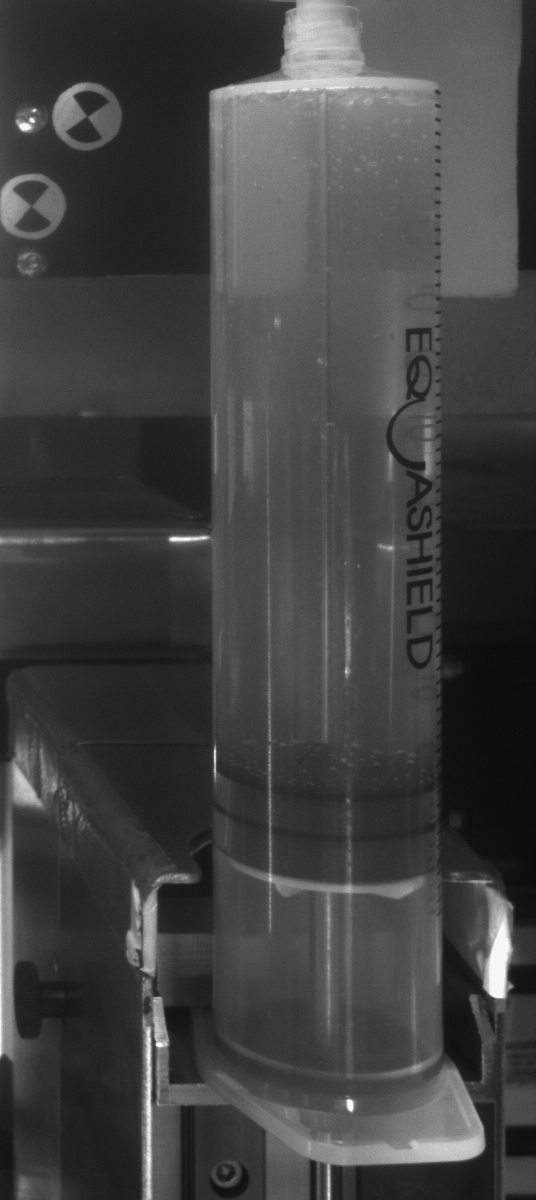piston: (213, 769, 444, 902)
